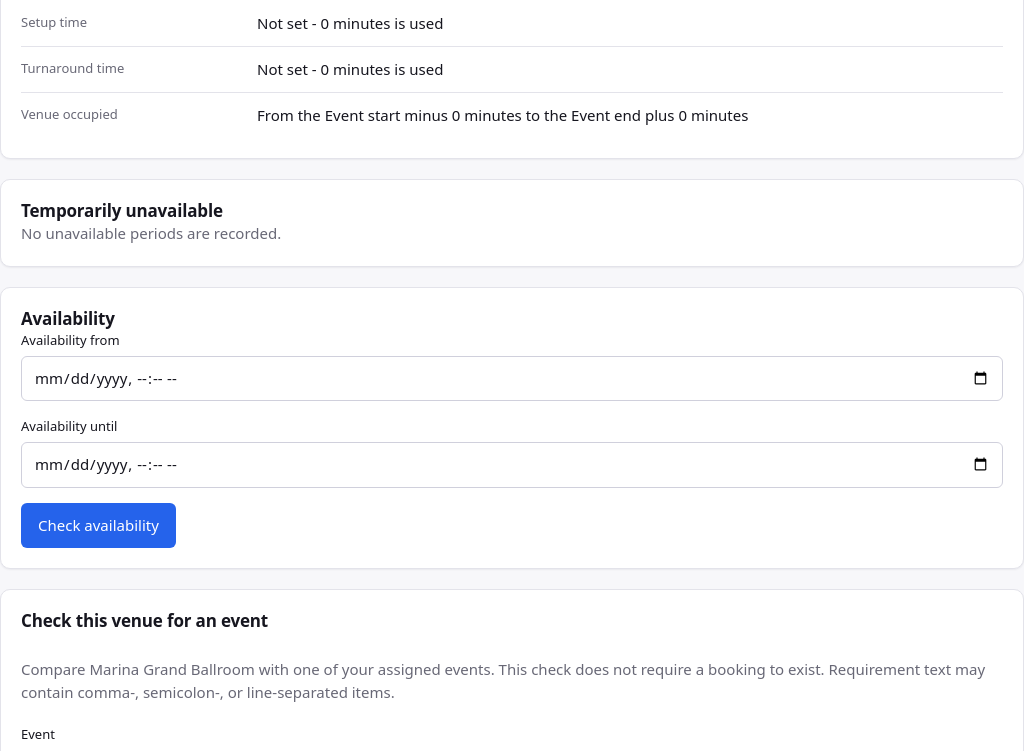
Test: SCRUM-41 AC2 - the availability calendar › lists a closure
The width and height of the screenshot is (1024, 751).
(page scrolled)
expect the heading "Availability" is shown: met, box [21,307,115,330]
Type "2026-11-02T00:00" into the field labelled "Availability from" at {"x": 512, "y": 379}, box [21,356,1003,401]
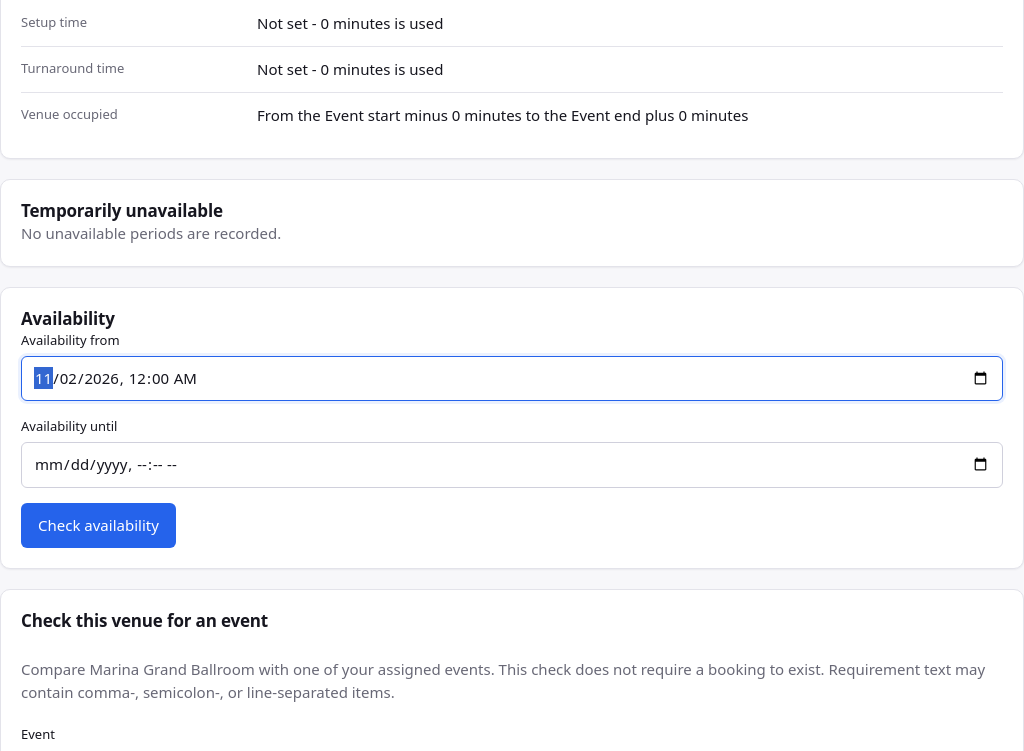
Type "2026-11-03T00:00" into the field labelled "Availability until" at {"x": 512, "y": 465}, box [21,442,1003,488]
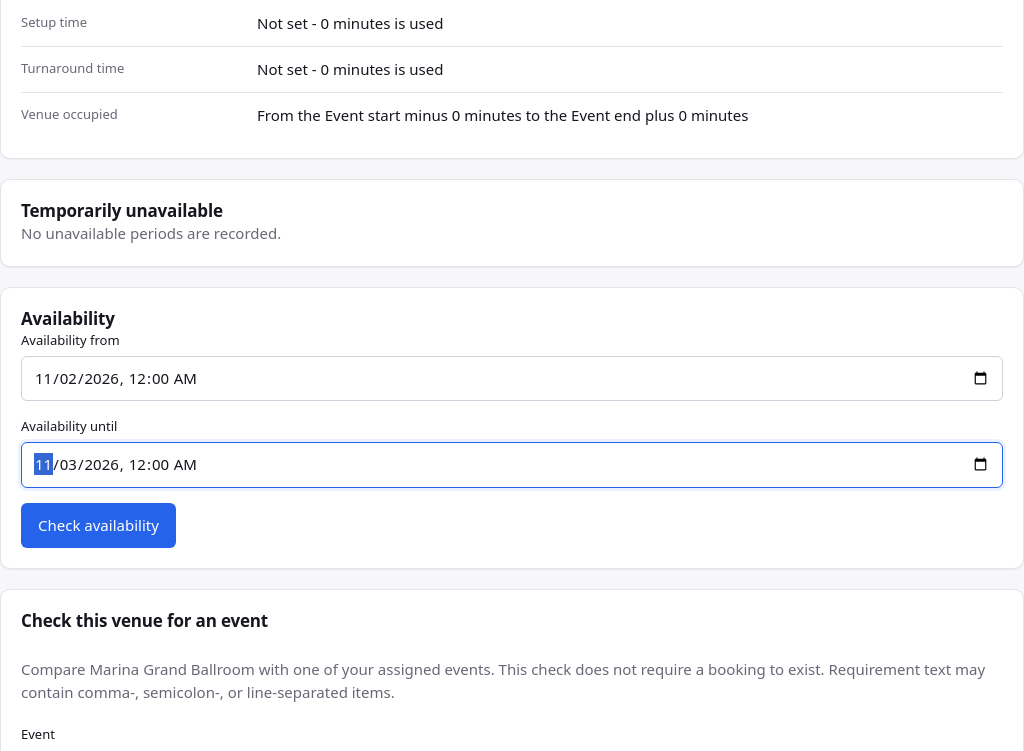
Click the button "Check availability" at {"x": 98, "y": 525}, box [21,502,176,548]
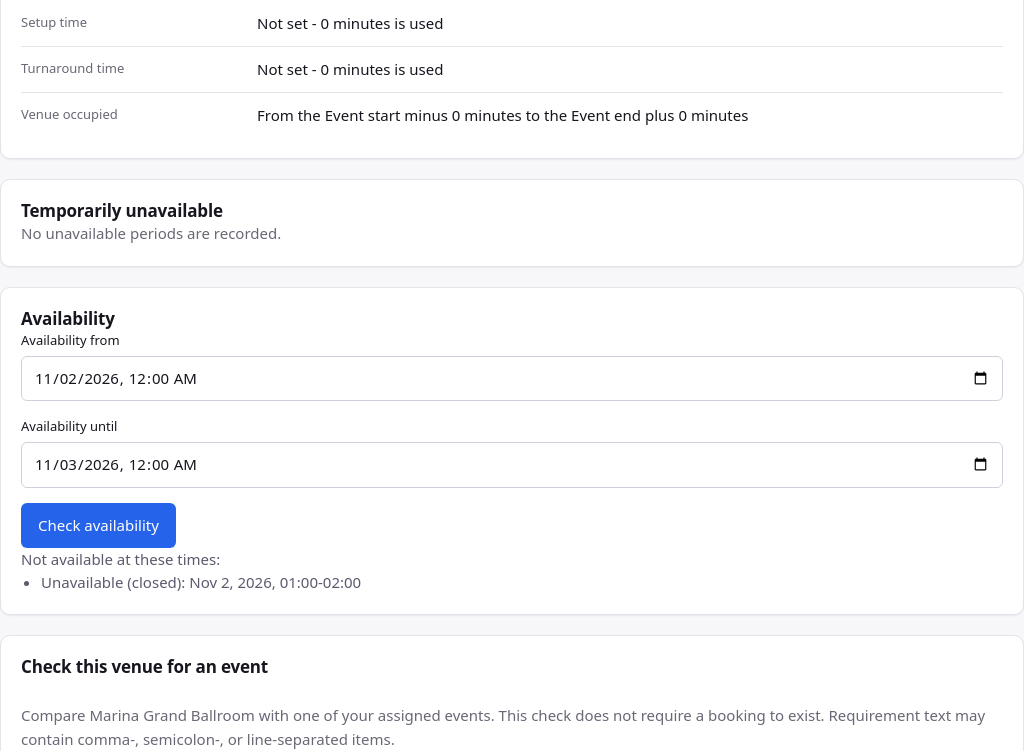
expect the list item "Unavailable (closed): Nov 2, 2026, 01:00-02:00" is shown: met, box [41,572,361,592]
